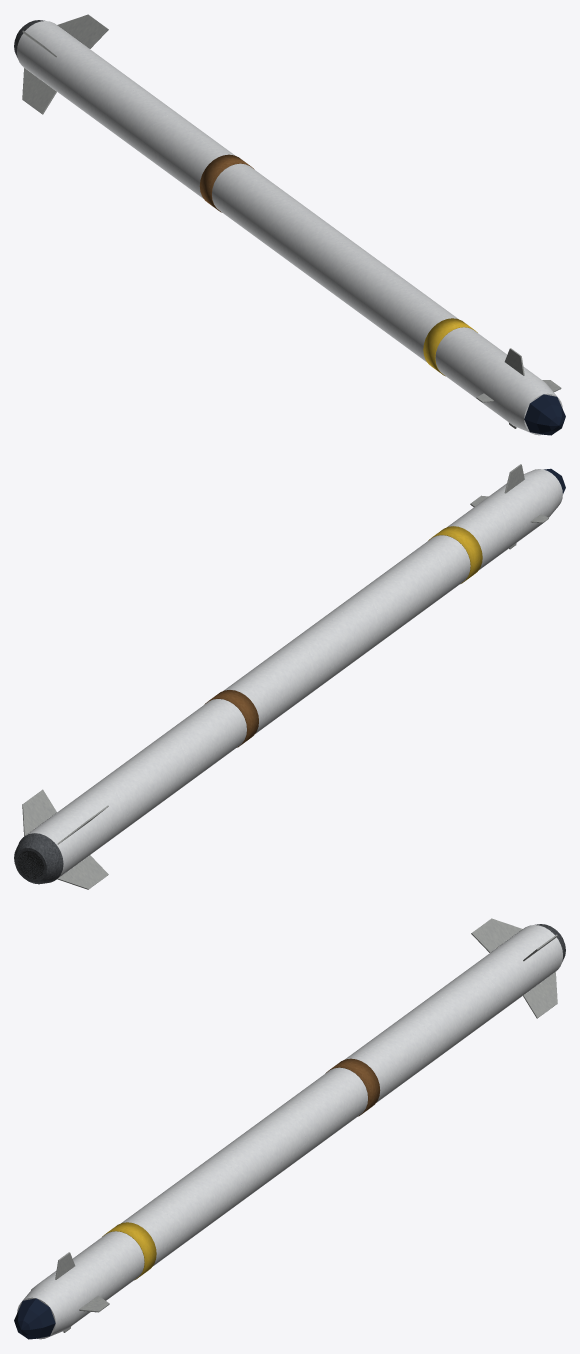
Rendered from stinger_missile.glb.
3 renders of one model, top to bottom at view 1: azimuth 30°, elevation 25°; view 2: azimuth 150°, elevation 25°; view 3: azimuth 330°, elevation 25°, orthographic.
Visible parts, largest first — view 1: stinger_missile; view 2: stinger_missile; view 3: stinger_missile.
Part boxes in pixels (left/top/right/bottom): stinger_missile: left=14, top=14, right=565, bottom=435; stinger_missile: left=14, top=464, right=565, bottom=889; stinger_missile: left=14, top=918, right=565, bottom=1339.
Bounding box in the file's own units: 0.11 × 0.11 × 1.37.
Materials: 7 (7 with a texture image).
